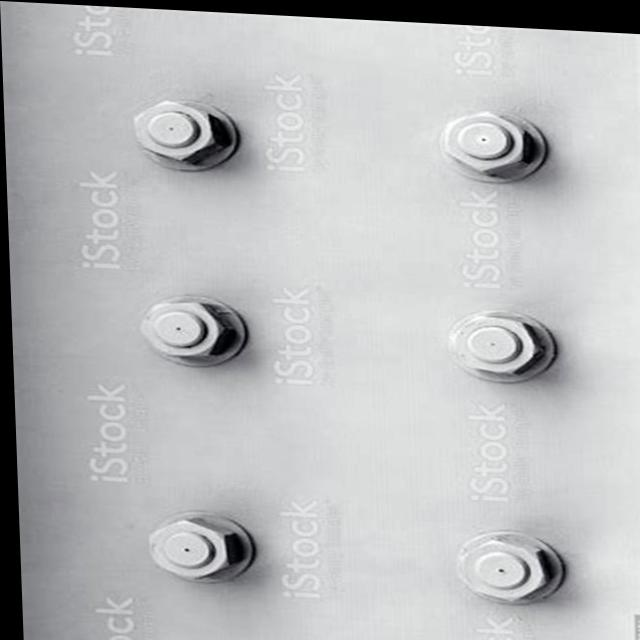Regular bolt: (455, 529, 549, 596), (444, 104, 535, 172), (448, 309, 546, 372), (136, 296, 232, 359), (143, 514, 235, 579), (133, 97, 223, 160)
